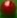brown: (0, 0, 17, 18)
